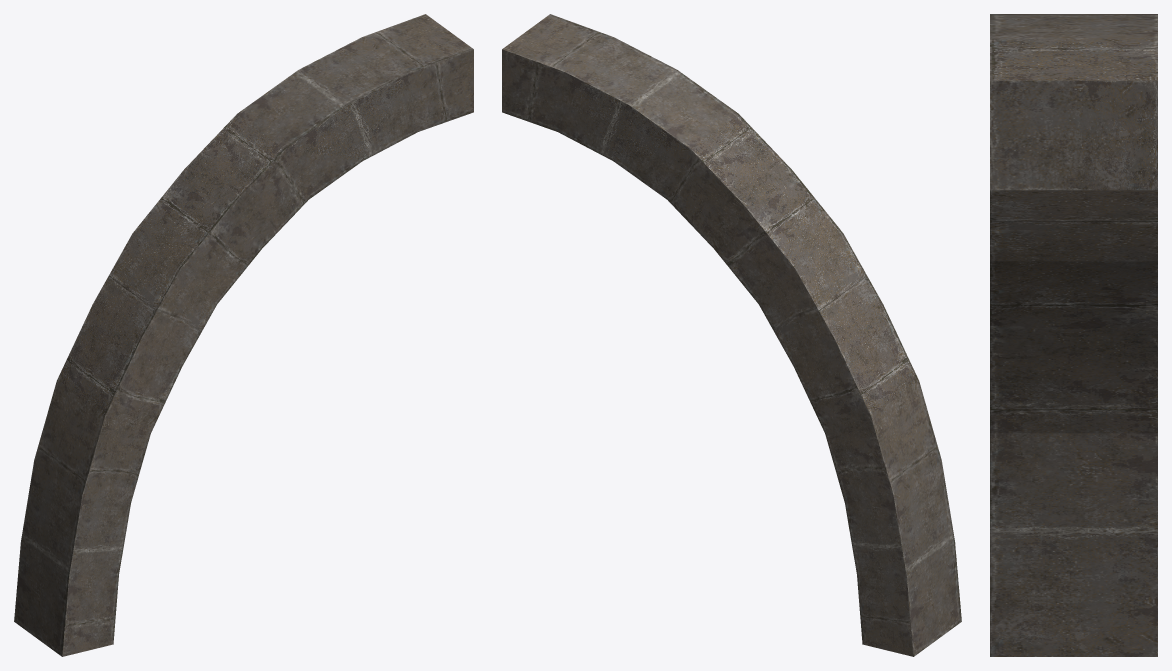
Rendered from ArcEntrance.fbx.
3 views of the same model, side by side, from view 1: azimuth 30°, elevation 25°; view 2: azimuth 150°, elevation 25°; view 3: azimuth 270°, elevation 25° (orthographic). The views are drawn at different scales.
Visible parts, largest first — view 1: Trim_Wall_arc_entrance; view 2: Trim_Wall_arc_entrance; view 3: Trim_Wall_arc_entrance.
Part boxes in pixels (bbox=[...]): Trim_Wall_arc_entrance: bbox=[14, 14, 473, 656]; Trim_Wall_arc_entrance: bbox=[502, 14, 961, 656]; Trim_Wall_arc_entrance: bbox=[990, 14, 1157, 656].
Size of the model in its own units: 305 by 359 by 61.75.
